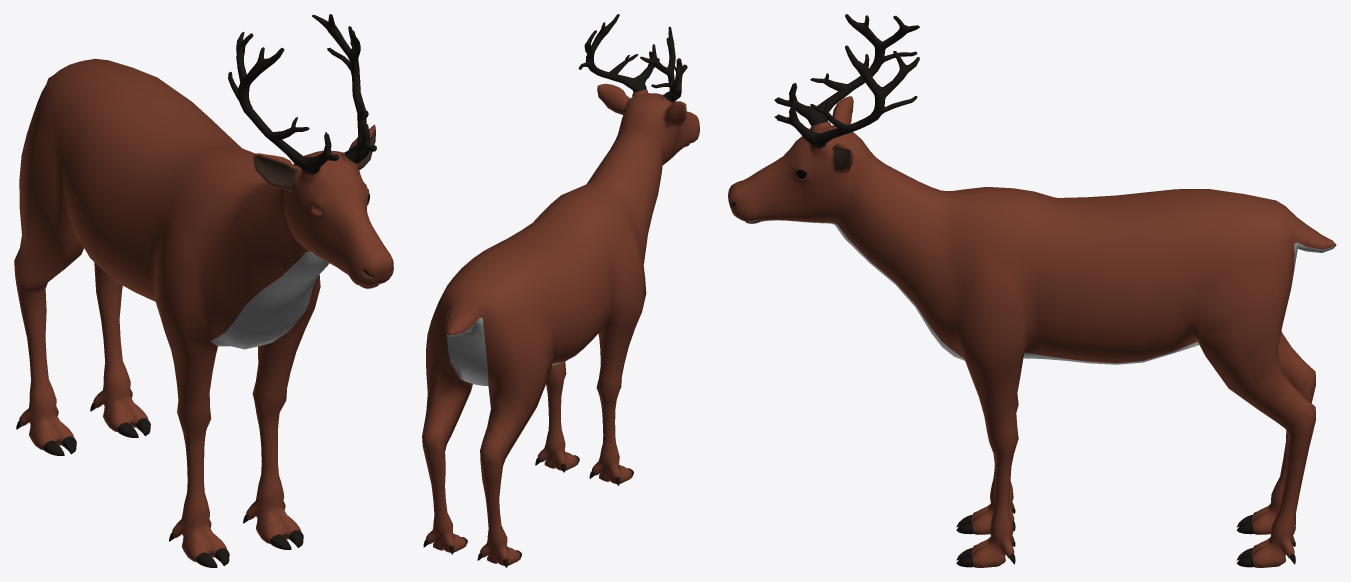
Rendered from reindeer.obj.
The picture shows the model from 3 angles, left to right: view 1: azimuth 30°, elevation 25°; view 2: azimuth 150°, elevation 25°; view 3: azimuth 270°, elevation 25°; orthographic projection. The views are drawn at different scales.
Parts seen in each view (by area): view 1: reindeer; view 2: reindeer; view 3: reindeer.
Part boxes in pixels (<box>): reindeer: <box>14,14,393,567</box>; reindeer: <box>422,14,699,567</box>; reindeer: <box>728,14,1336,567</box>.
Size of the model in its own units: 0.5684 by 1.98 by 2.12.
